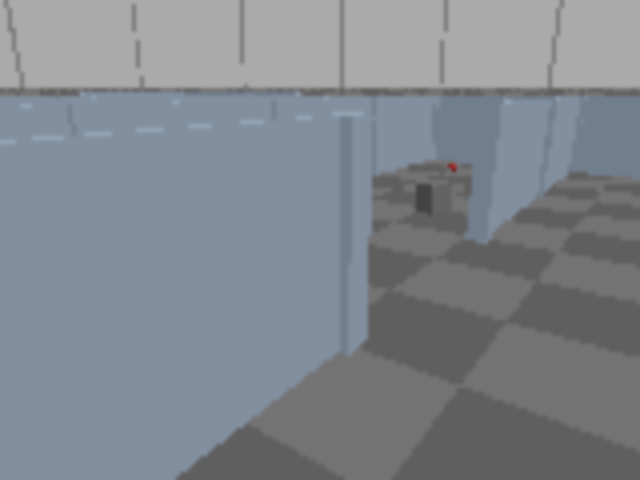obstacle: (415, 180, 454, 215)
